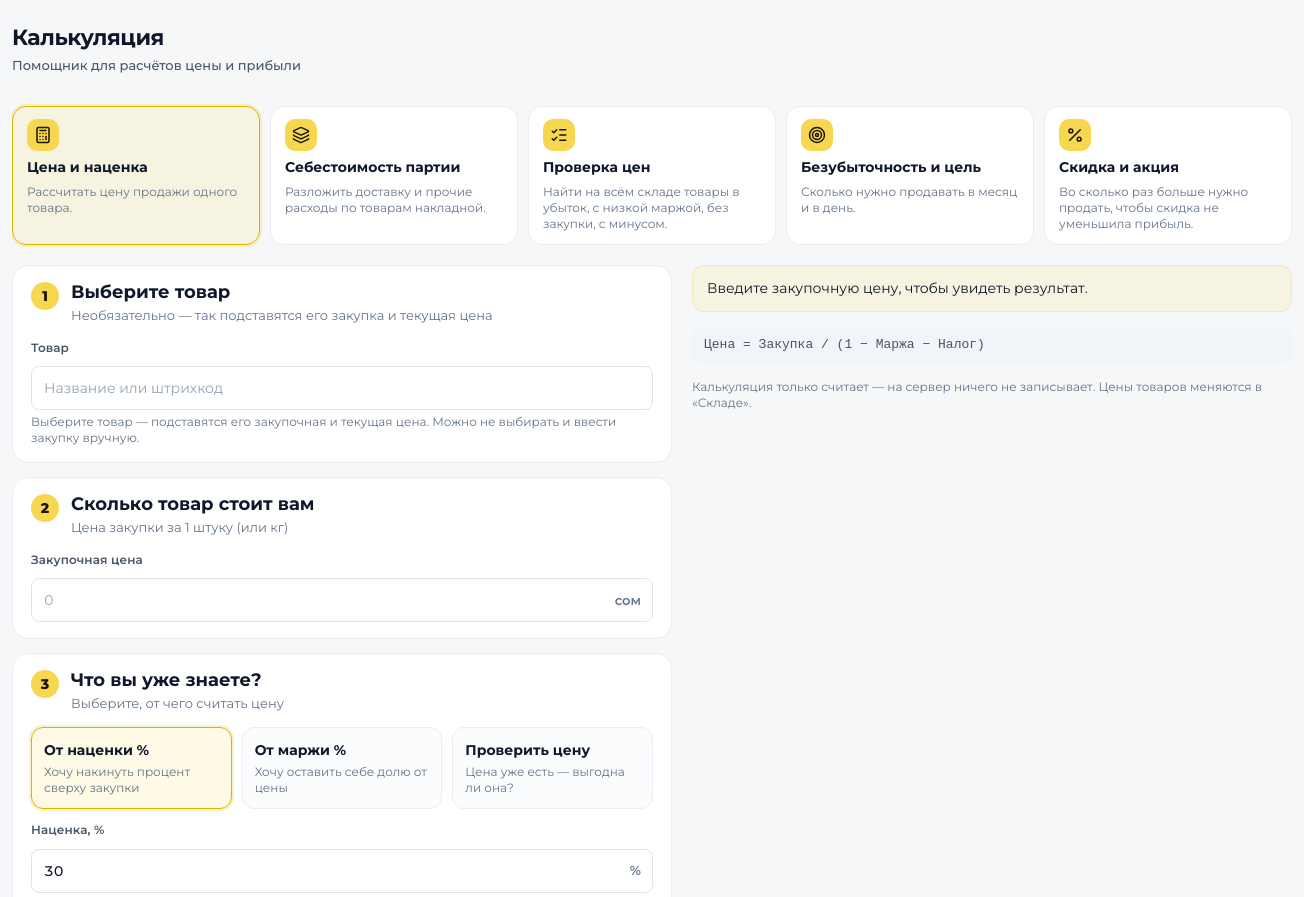
Test: ввод › закупка «1,000.50» из Excel понимается как 1000,50
Type "1,000.50" into the field labelled "Закупочная цена" at (342, 600), box [31, 578, 653, 622]
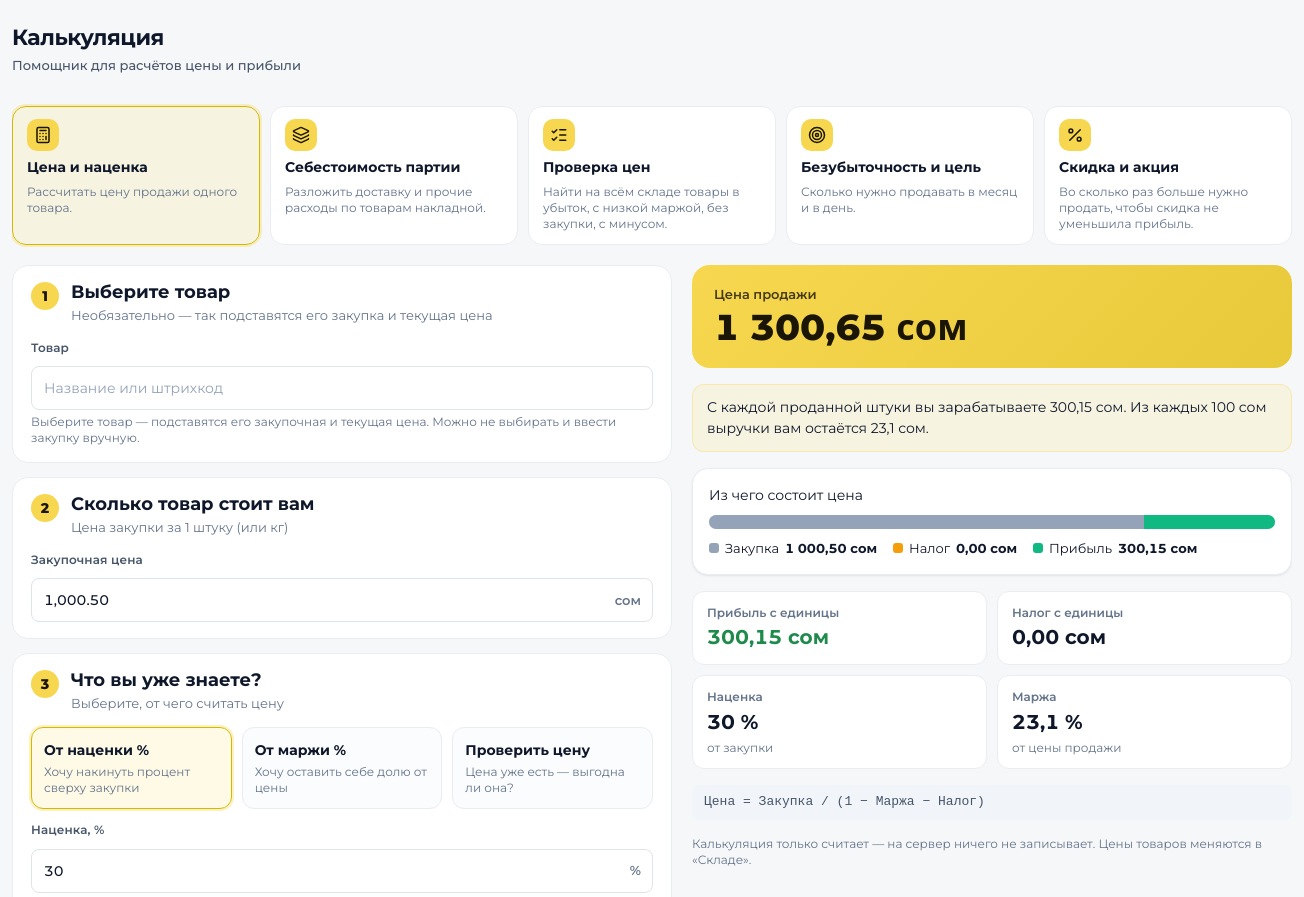
Expected: the text "1 300,65 сом" is shown, [714, 305, 968, 349]
